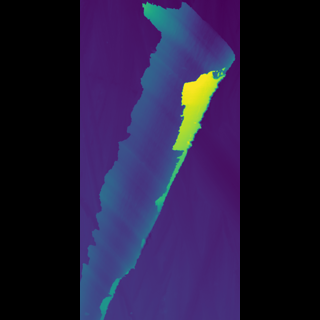Loch: (118, 1, 198, 317)
